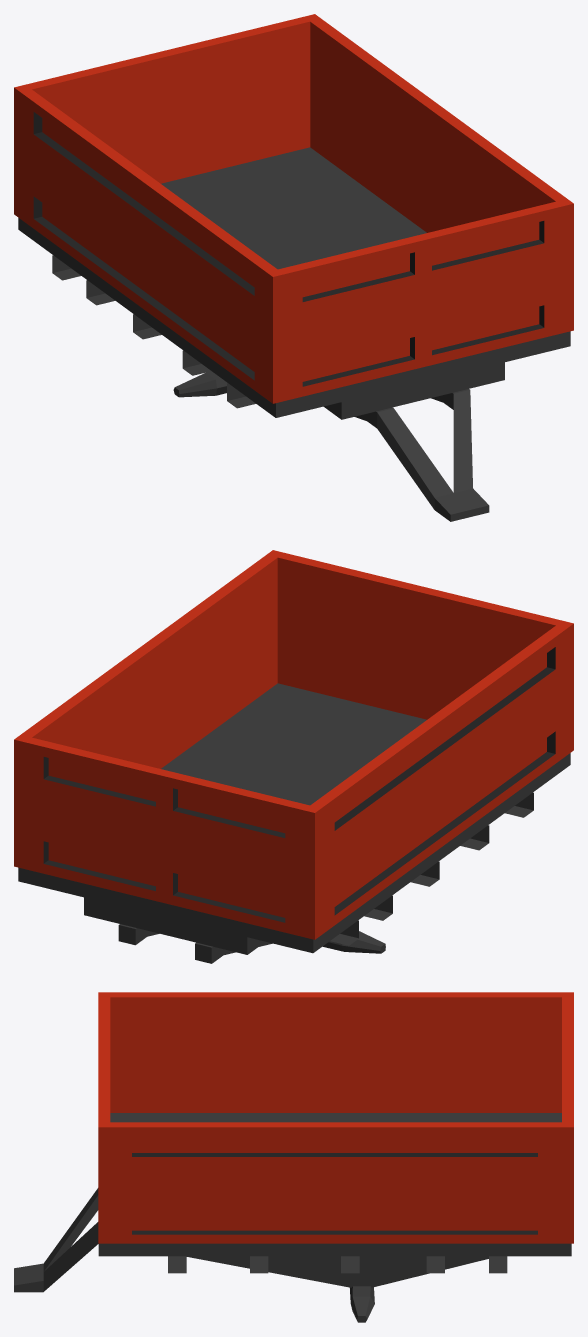
Rendered from trailer_body.fbx.
The picture shows the model from 3 angles, top to bottom: view 1: azimuth 30°, elevation 25°; view 2: azimuth 150°, elevation 25°; view 3: azimuth 270°, elevation 25°; orthographic projection. The views are drawn at different scales.
Parts seen in each view (by area): view 1: Trailer_bagage.002, Trailer_chassis; view 2: Trailer_bagage.002, Trailer_chassis; view 3: Trailer_bagage.002, Trailer_chassis.
Boxes of the visible parts, box(x1,y1,x2,y2) form: Trailer_bagage.002: box(14, 14, 573, 419); Trailer_chassis: box(52, 255, 489, 521); Trailer_bagage.002: box(14, 550, 573, 954); Trailer_chassis: box(118, 792, 533, 963); Trailer_bagage.002: box(98, 992, 573, 1256); Trailer_chassis: box(14, 1188, 507, 1322).
Bounding box in the file's own units: 124 × 96.08 × 218.
1 material, 1 textured.
